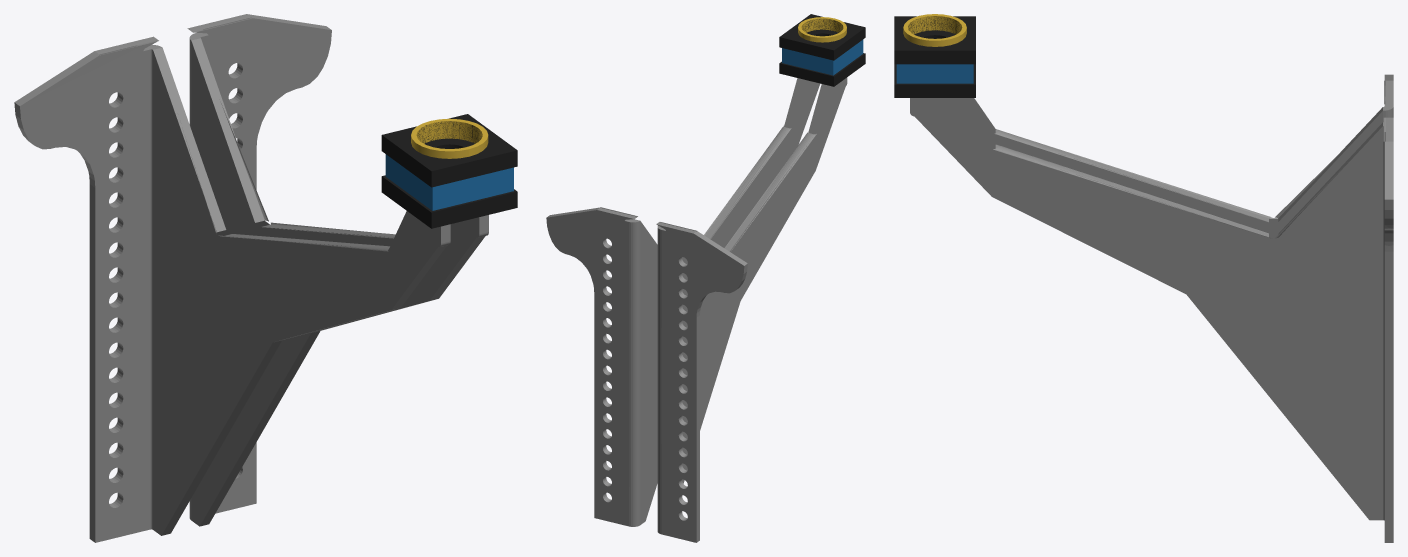
The model's file is camera complex.dae.
3 views of the same model, side by side, from view 1: azimuth 30°, elevation 25°; view 2: azimuth 150°, elevation 25°; view 3: azimuth 270°, elevation 25° (orthographic). The views are drawn at different scales.
Parts seen in each view (by area): view 1: skp2A2A (×3), group_0 (×5); view 2: skp2A2A (×4), group_0 (×5); view 3: skp2A2A (×4), group_0 (×5).
Part boxes in pixels (x1,y1,x2,y2): skp2A2A (×3): (14, 14, 488, 542); group_0 (×5): (381, 114, 517, 228); skp2A2A (×4): (546, 77, 847, 542); group_0 (×5): (779, 14, 865, 86); skp2A2A (×4): (910, 74, 1393, 542); group_0 (×5): (894, 14, 975, 97).
Size of the model in its own units: 5.14 by 8.67 by 9.26.
